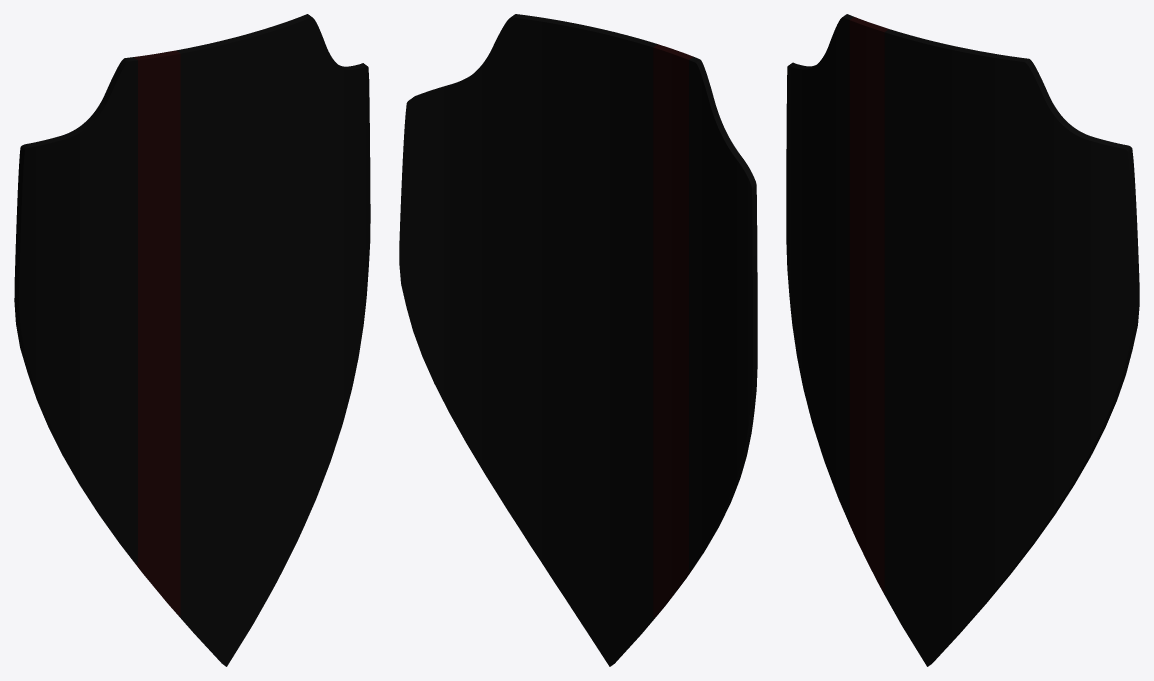
Rendered from StripedShield.fbx.
3 renders of one model, left to right at view 1: azimuth 30°, elevation 25°; view 2: azimuth 150°, elevation 25°; view 3: azimuth 330°, elevation 25°, orthographic.
Parts seen in each view (by area): view 1: NurbsCurve.001; view 2: NurbsCurve.001; view 3: NurbsCurve.001.
Boxes of the visible parts, <box> form: NurbsCurve.001: <box>14,14,370,666</box>; NurbsCurve.001: <box>399,14,757,666</box>; NurbsCurve.001: <box>786,14,1139,666</box>.
Bounding box in the file's own units: 445 × 755 × 82.96.
